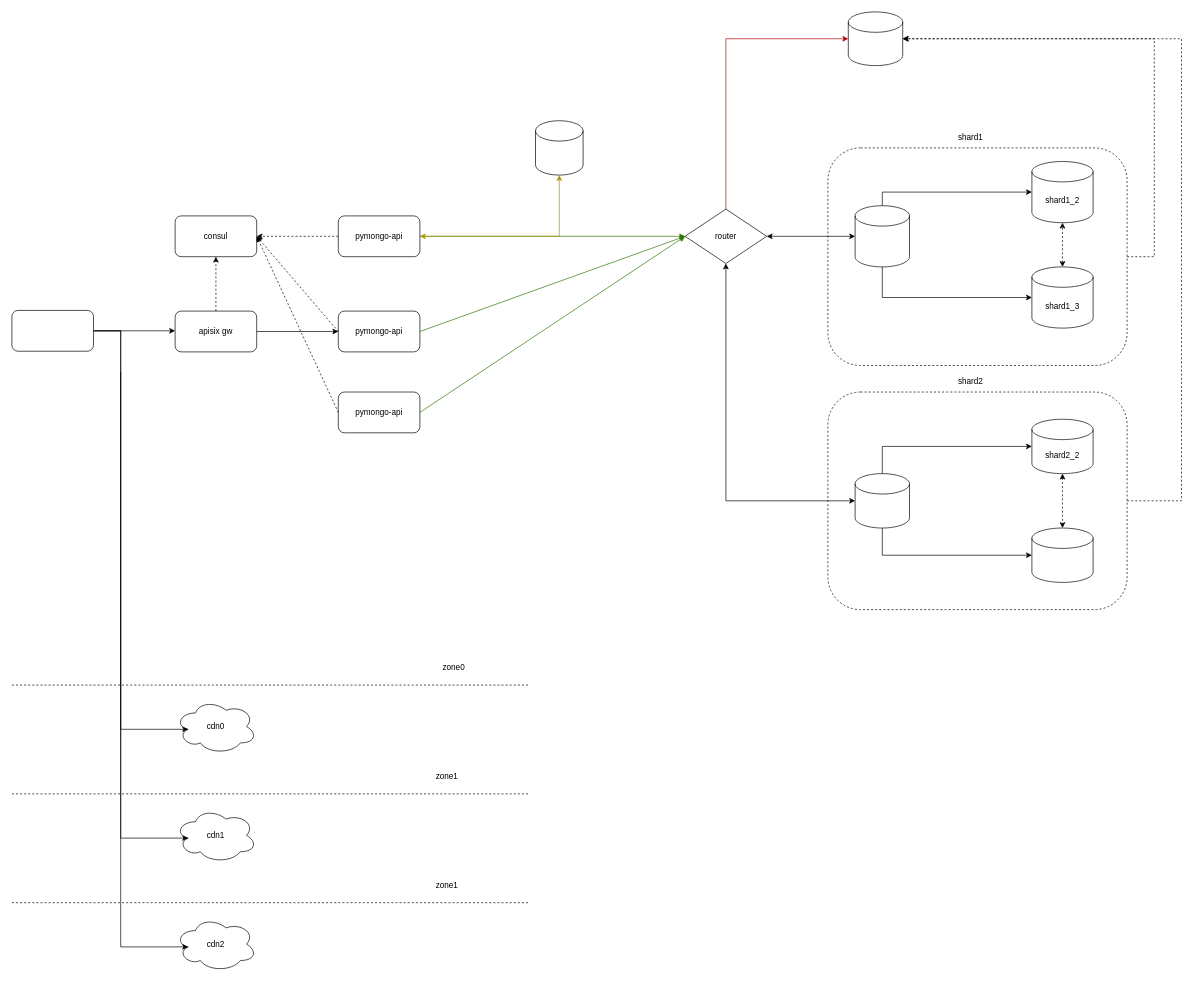
Some shapes in this 1199 by 983 pixel diagram are drawn without their labels. Each missing label, with the centre of its shape:
"config service" belongs at (x=875, y=38).
"nginx" belongs at (x=52, y=330).
"redis" belongs at (x=559, y=147).
"shard1_1" belongs at (x=882, y=236).
"shard2_1" belongs at (x=882, y=500).
"shard2_3" belongs at (x=1062, y=554).
